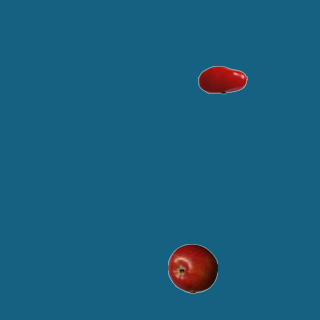Apple Braeburn: (167, 243, 217, 293)
Tomato 2: (197, 54, 247, 104)
